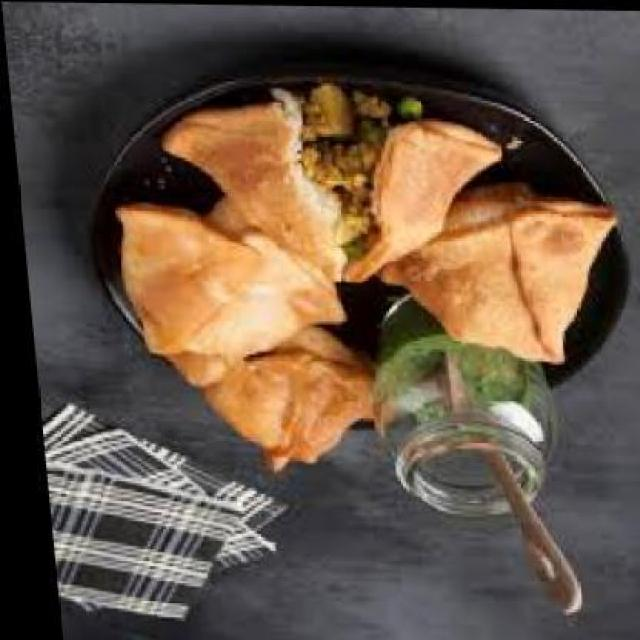samosa: (156, 82, 510, 283), (368, 182, 620, 360), (111, 200, 338, 354), (157, 323, 377, 472)
